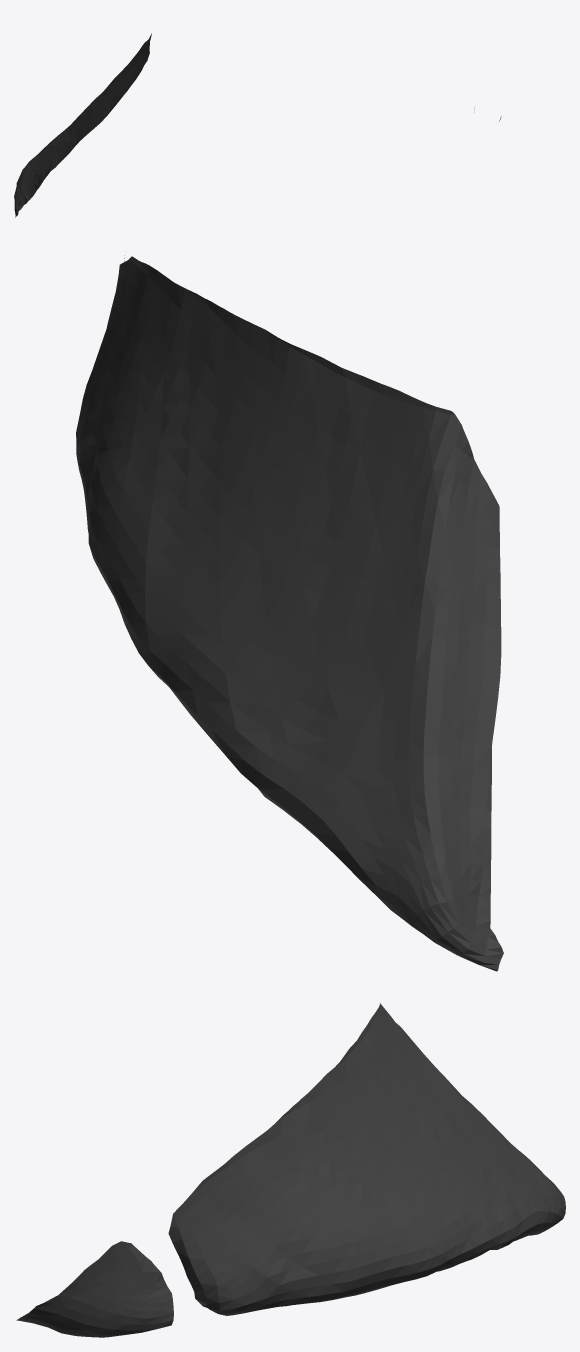
File: eq_dist_limb_Hoof_Laminar_Corium.glb
3 renders of one model, top to bottom at view 1: azimuth 30°, elevation 25°; view 2: azimuth 150°, elevation 25°; view 3: azimuth 270°, elevation 25°, orthographic. The views are drawn at different scales.
Visible parts, largest first — view 1: eq_dist_limb_Hoof_Laminar_Corium; view 2: eq_dist_limb_Hoof_Laminar_Corium; view 3: eq_dist_limb_Hoof_Laminar_Corium.
Part boxes in pixels (x1=…): eq_dist_limb_Hoof_Laminar_Corium: x1=14, y1=33, x2=501, y2=217; eq_dist_limb_Hoof_Laminar_Corium: x1=76, y1=255, x2=503, y2=971; eq_dist_limb_Hoof_Laminar_Corium: x1=16, y1=1003, x2=565, y2=1337.
Size of the model in its own units: 0.0094 by 0.00545 by 0.0096.
Materials: 1 (1 with a texture image).
